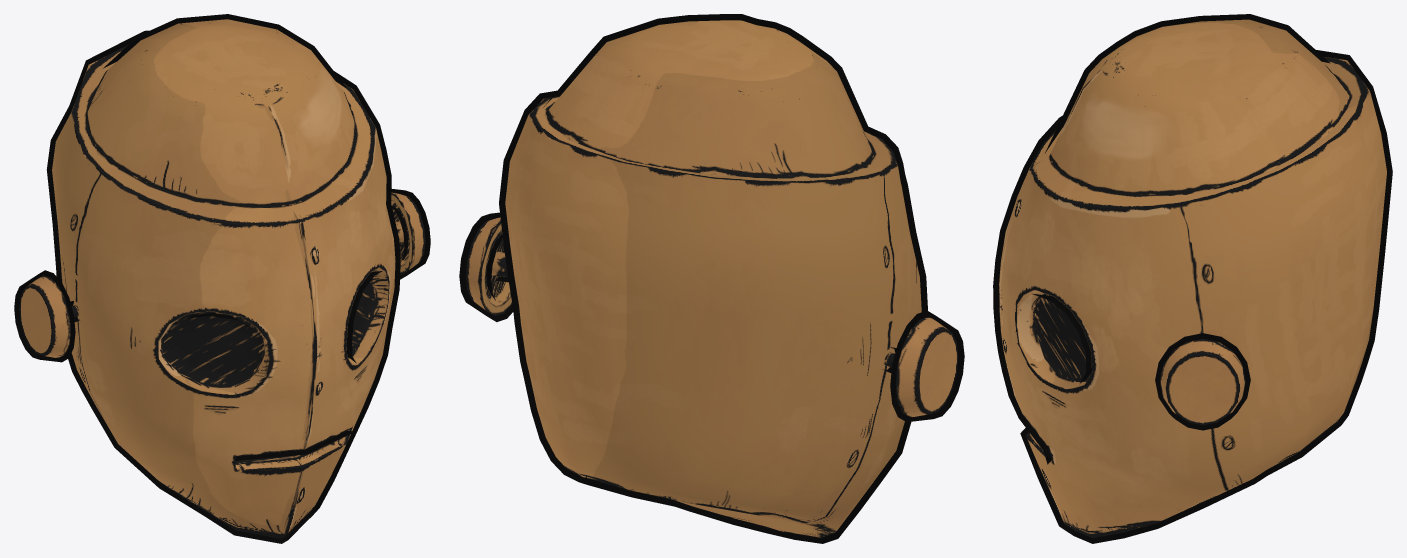
3 renders of one model, left to right at view 1: azimuth 30°, elevation 25°; view 2: azimuth 150°, elevation 25°; view 3: azimuth 270°, elevation 25°, orthographic. The views are drawn at different scales.
Parts seen in each view (by area): view 1: Head_lowpoly, Outline; view 2: Head_lowpoly, Outline; view 3: Head_lowpoly, Outline.
Boxes of the visible parts, left/top/right/bottom form: Head_lowpoly: left=19, top=19, right=425, bottom=538; Outline: left=14, top=14, right=430, bottom=543; Head_lowpoly: left=465, top=20, right=958, bottom=537; Outline: left=459, top=14, right=964, bottom=543; Head_lowpoly: left=999, top=19, right=1386, bottom=538; Outline: left=993, top=14, right=1392, bottom=543.
Bounding box in the file's own units: 0.18 × 0.2049 × 0.1497.
2 materials, 1 textured.
